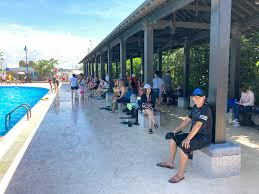people: (161, 90, 213, 181), (138, 85, 159, 133), (233, 84, 255, 126), (113, 80, 127, 109), (153, 71, 163, 103), (163, 72, 173, 96), (70, 73, 78, 98), (78, 74, 85, 98)
